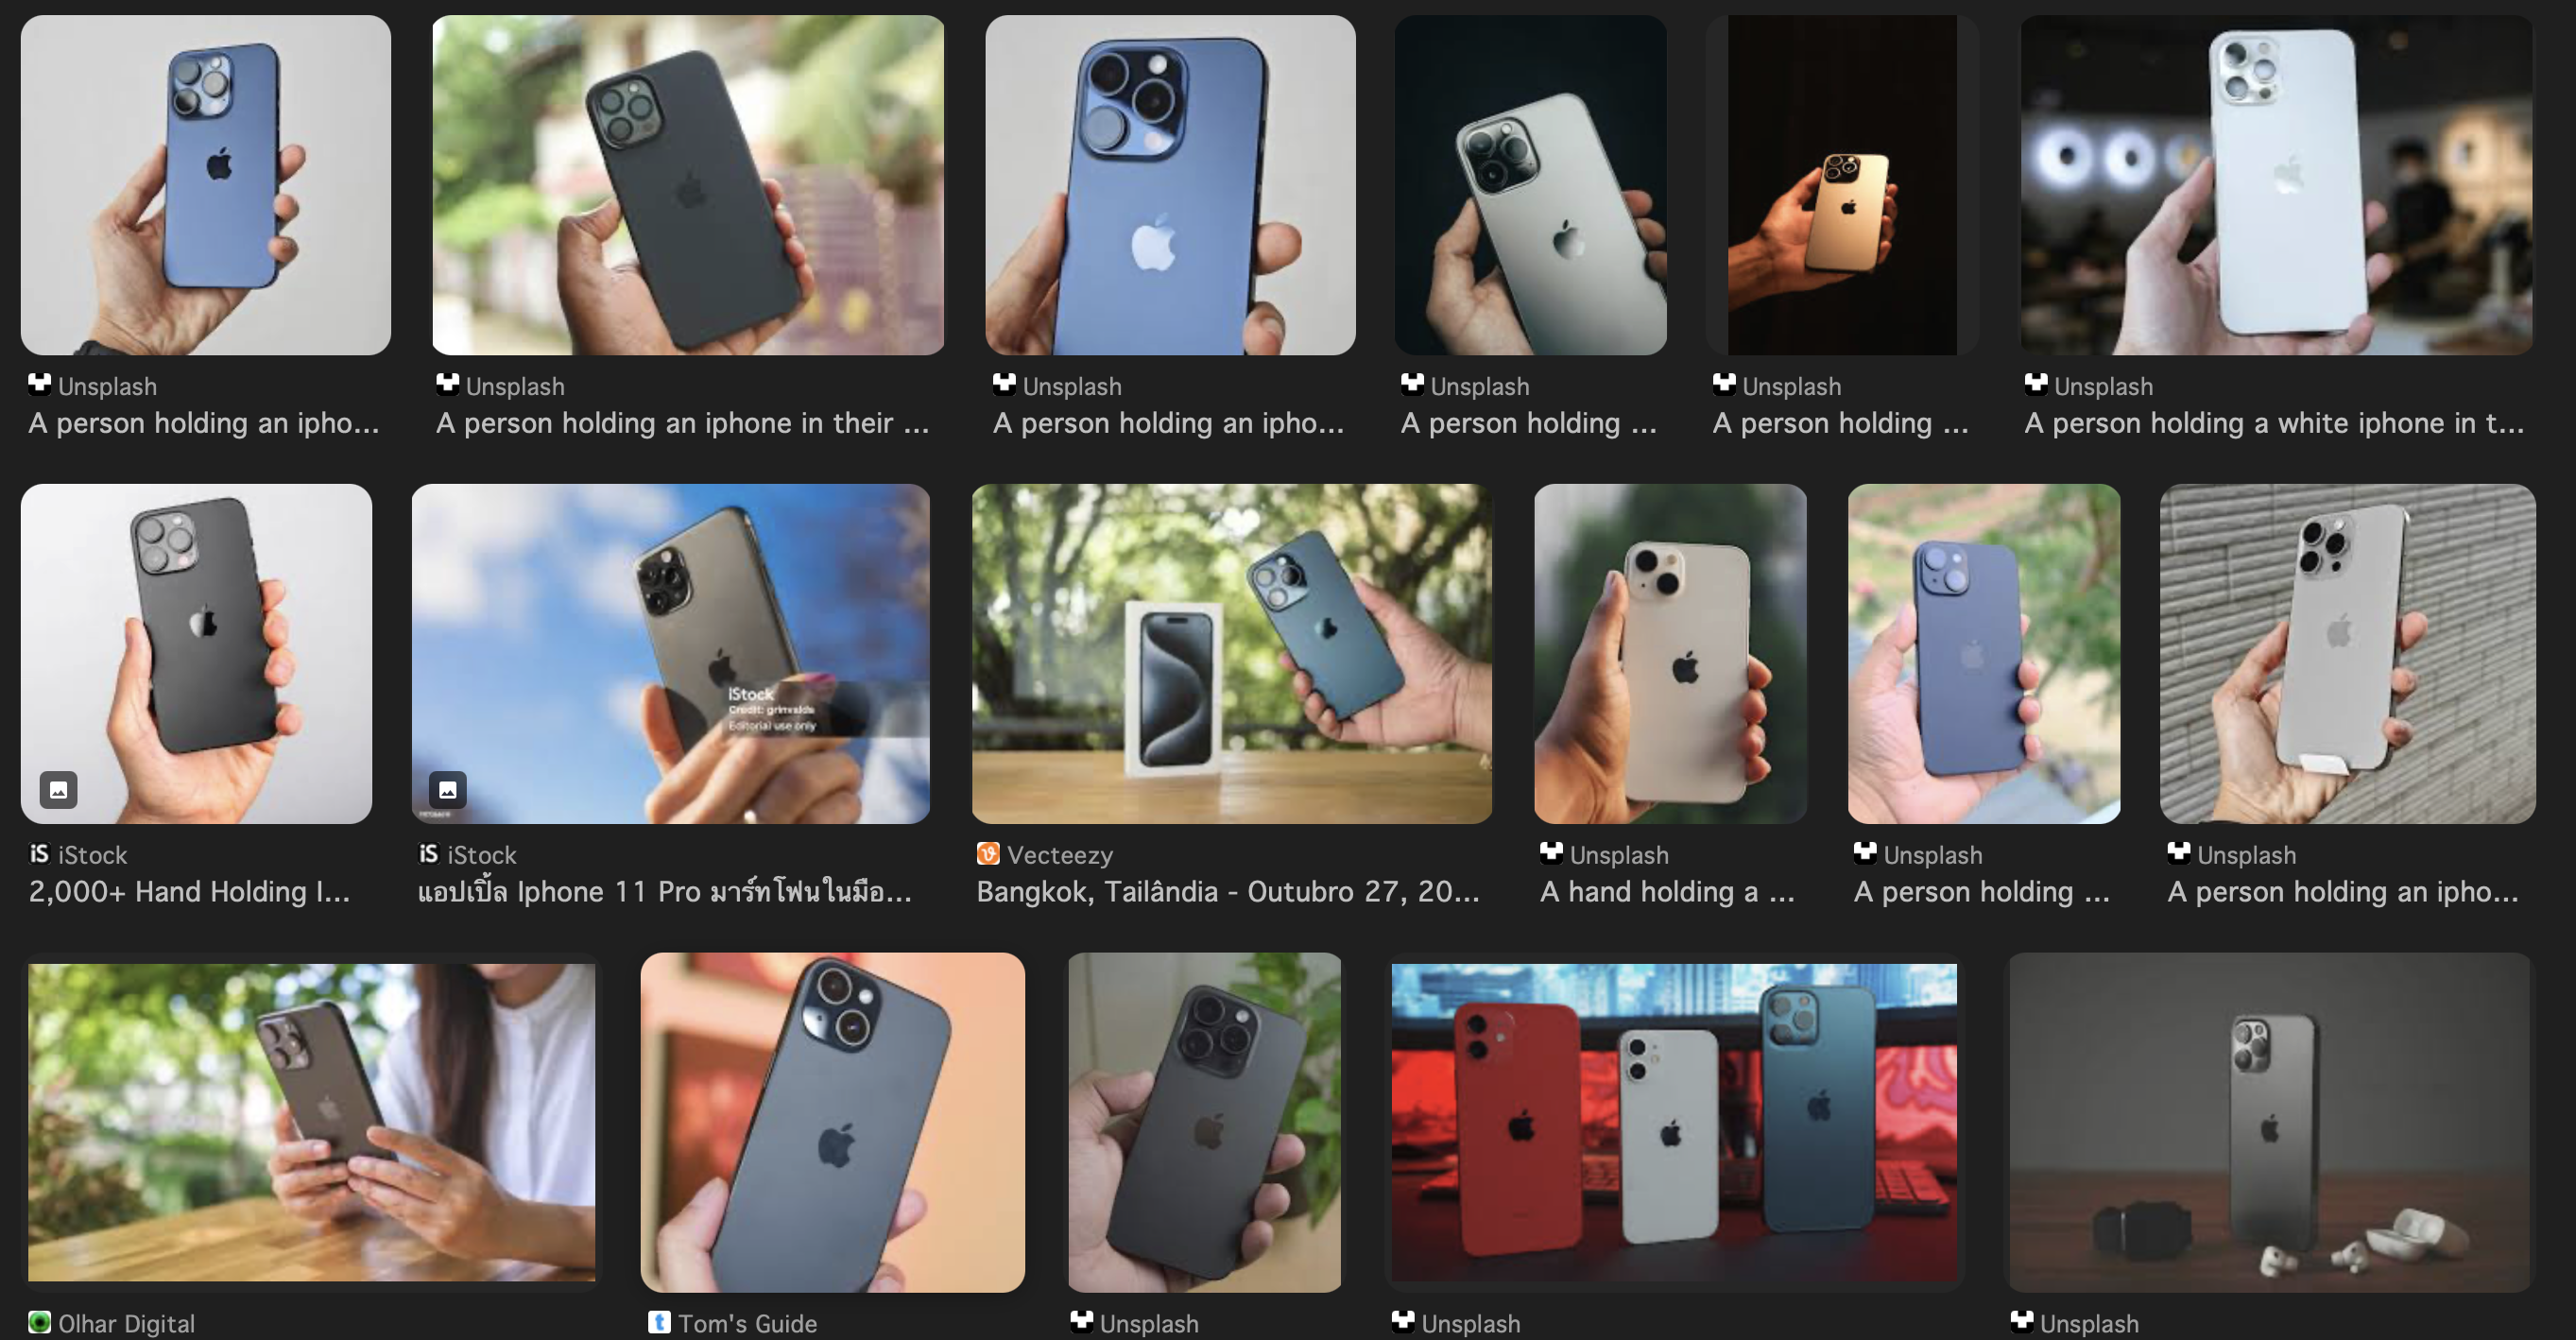phone: (566, 37, 838, 342), (1046, 19, 1273, 369), (726, 945, 947, 1299), (1440, 73, 1678, 369), (612, 489, 838, 780), (141, 20, 346, 312), (2201, 26, 2392, 335), (1600, 494, 1768, 822), (126, 480, 312, 771), (1143, 955, 1308, 1265), (1429, 989, 1605, 1267), (2280, 485, 2423, 795), (1896, 526, 2048, 788), (1225, 531, 1419, 732), (244, 993, 411, 1207), (1762, 976, 1883, 1248), (2222, 999, 2326, 1246), (1612, 1016, 1724, 1238), (1811, 126, 1896, 284)
